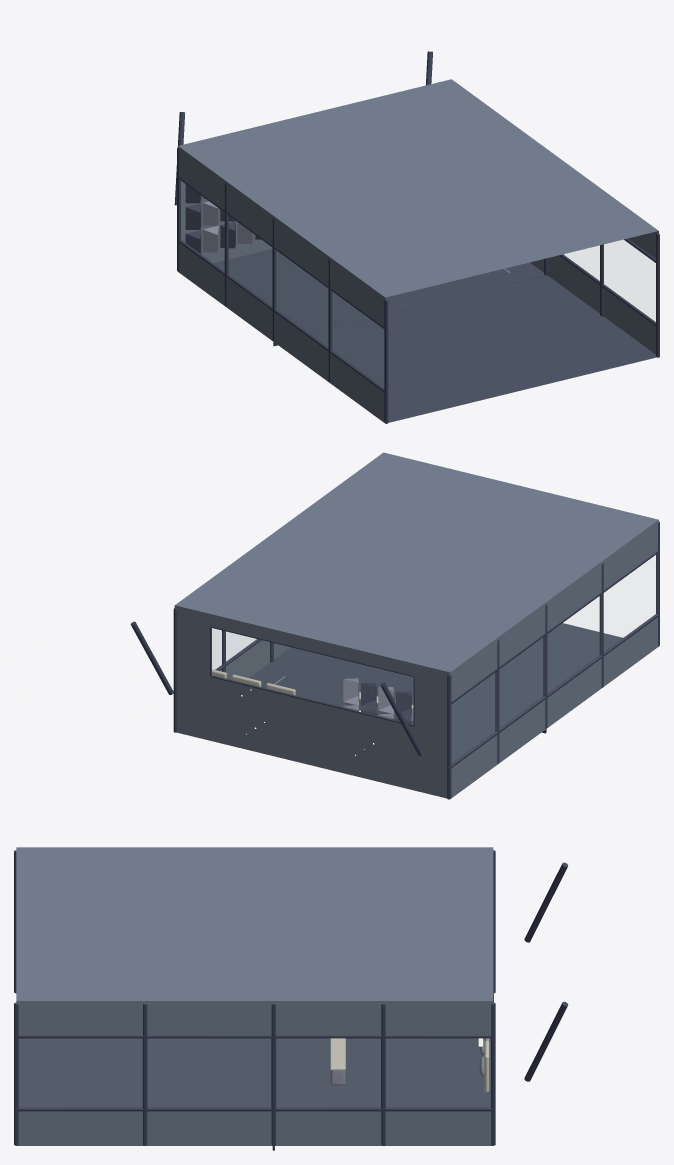
The model's file is garage.glb.
3 renders of one model, top to bottom at view 1: azimuth 30°, elevation 25°; view 2: azimuth 150°, elevation 25°; view 3: azimuth 270°, elevation 25°, orthographic. The views are drawn at different scales.
Visible parts, largest first — view 1: Roof panels - Wall, Floor extension - Floor, Port wall - Wall, Floor - Floor, Port wall - Rib, Starboard wall - Wall, Rear bulkhead - Wall, Starboard wall - Rib, Signature architecture - Rib, Signature architecture - Secondary; view 2: Roof panels - Wall, Rear bulkhead - Wall, Port wall - Wall, Floor extension - Floor, Port wall - Rib, Floor - Floor, Rear bulkhead - Rib, Starboard wall - Wall, Starboard wall - Rib, Outside the glazing - Rib, Signature architecture - Secondary, Signature architecture - Rib; view 3: Roof panels - Wall, Starboard wall - Wall, Floor extension - Floor, Floor - Floor, Starboard wall - Rib, Outside the glazing - Rib, Port wall - Rib, Counter - Pale.
Part boxes in pixels (bbox=[...]): Roof panels - Wall: bbox=[178, 79, 658, 297]; Floor extension - Floor: bbox=[309, 275, 656, 422]; Port wall - Wall: bbox=[178, 146, 385, 422]; Floor - Floor: bbox=[214, 249, 544, 332]; Port wall - Rib: bbox=[177, 148, 388, 423]; Starboard wall - Wall: bbox=[530, 231, 658, 354]; Rear bulkhead - Wall: bbox=[181, 181, 272, 263]; Starboard wall - Rib: bbox=[544, 233, 659, 357]; Signature architecture - Rib: bbox=[185, 184, 260, 253]; Signature architecture - Secondary: bbox=[203, 197, 253, 252]; Roof panels - Wall: bbox=[175, 452, 658, 672]; Rear bulkhead - Wall: bbox=[174, 605, 450, 798]; Port wall - Wall: bbox=[450, 520, 658, 798]; Floor extension - Floor: bbox=[273, 623, 622, 720]; Port wall - Rib: bbox=[447, 521, 659, 799]; Floor - Floor: bbox=[249, 662, 510, 763]; Rear bulkhead - Rib: bbox=[210, 626, 414, 726]; Starboard wall - Wall: bbox=[220, 640, 290, 679]; Starboard wall - Rib: bbox=[173, 607, 273, 732]; Outside the glazing - Rib: bbox=[130, 621, 423, 755]; Signature architecture - Secondary: bbox=[343, 678, 413, 723]; Signature architecture - Rib: bbox=[361, 682, 411, 723]; Roof panels - Wall: bbox=[16, 847, 493, 1000]; Starboard wall - Wall: bbox=[16, 1001, 493, 1145]; Floor extension - Floor: bbox=[19, 1038, 271, 1107]; Floor - Floor: bbox=[276, 1038, 490, 1107]; Starboard wall - Rib: bbox=[14, 1002, 495, 1145]; Outside the glazing - Rib: bbox=[524, 862, 568, 1081]; Port wall - Rib: bbox=[14, 850, 495, 993]; Counter - Pale: bbox=[330, 1038, 345, 1070].
Bounding box in the file's own units: 31.75 × 9.65 × 34.14.
